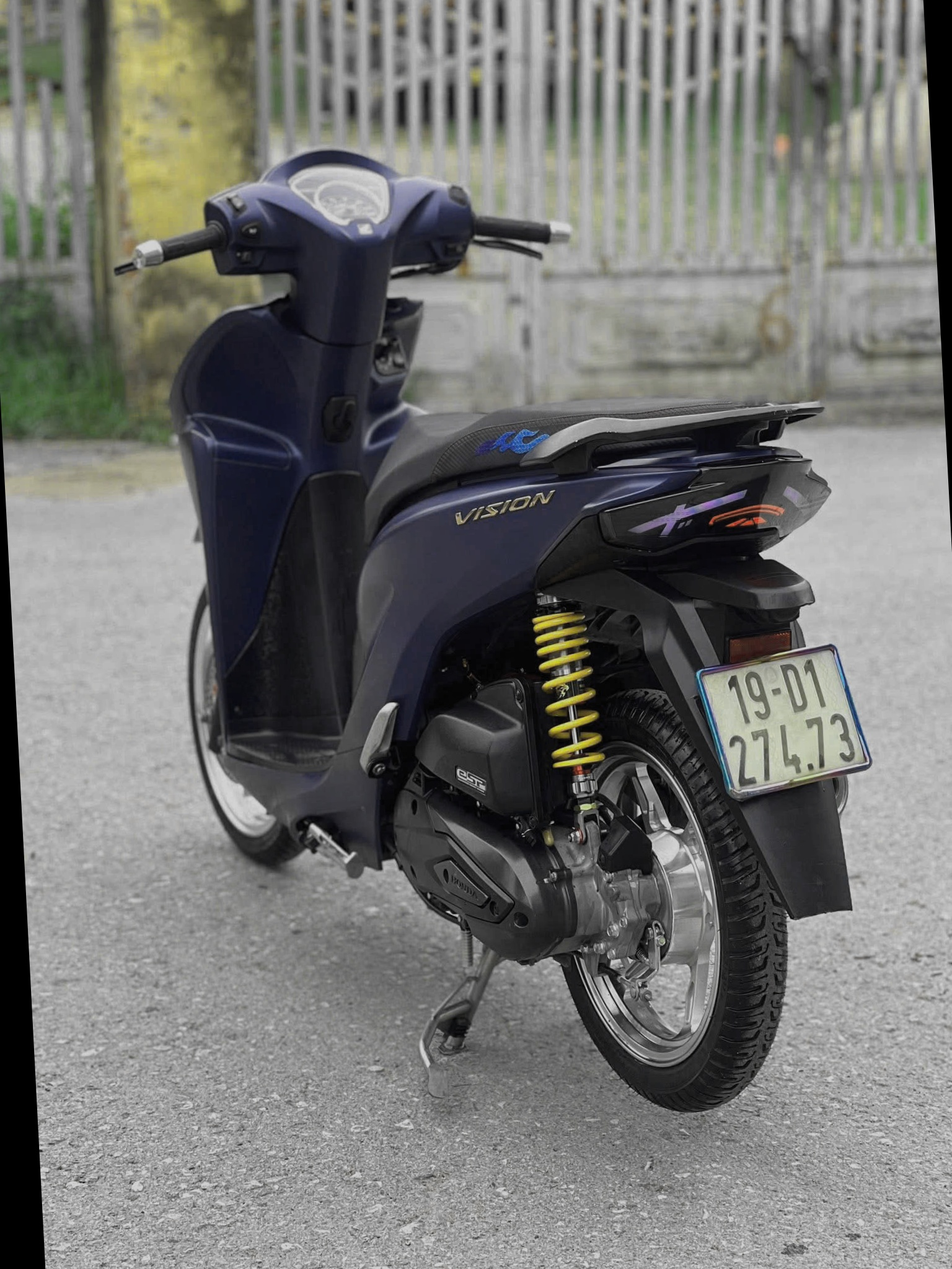Bien-so: (663, 686, 855, 850)
